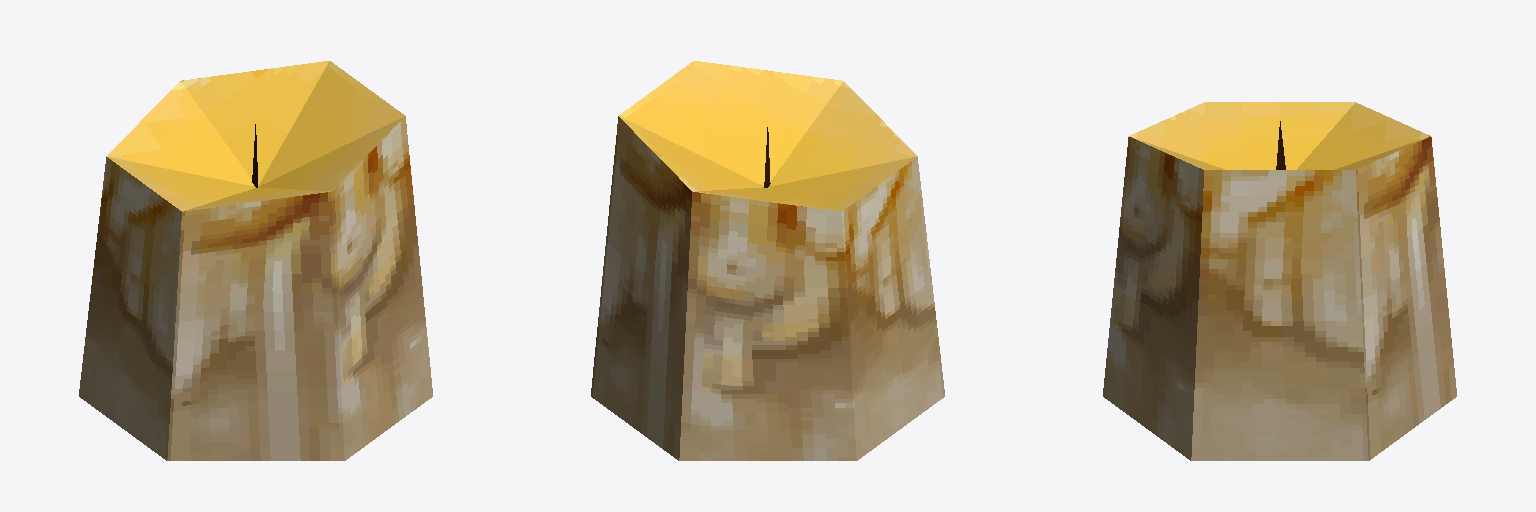
The picture shows the model from 3 angles: view 1: azimuth 30°, elevation 25°; view 2: azimuth 150°, elevation 25°; view 3: azimuth 270°, elevation 25°; orthographic projection.
Parts seen in each view (by area): view 1: candle02.m2; view 2: candle02.m2; view 3: candle02.m2.
Boxes of the visible parts, x1,y1,x2,y2 form: candle02.m2: [79, 61, 432, 460]; candle02.m2: [591, 61, 944, 460]; candle02.m2: [1103, 102, 1456, 460].
Size of the model in its own units: 0.4425 by 0.4464 by 0.5109.
1 materials, 1 textured.